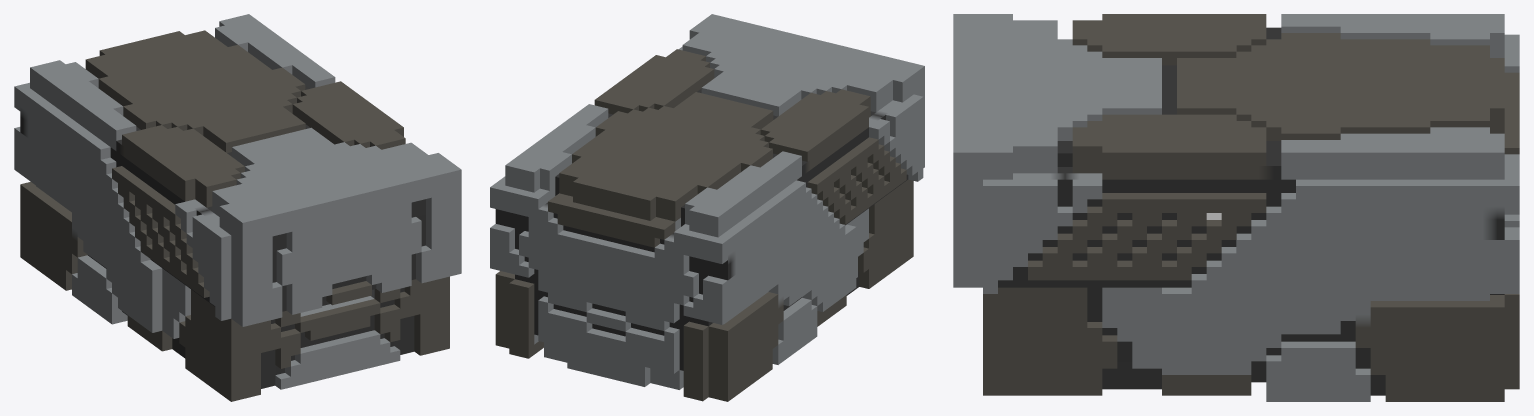
The model's file is Head3.fbx.
The picture shows the model from 3 angles, left to right: view 1: azimuth 30°, elevation 25°; view 2: azimuth 150°, elevation 25°; view 3: azimuth 270°, elevation 25°; orthographic projection. The views are drawn at different scales.
Parts seen in each view (by area): view 1: Head3; view 2: Head3; view 3: Head3.
Part boxes in pixels (bbox=[...]): Head3: bbox=[14, 14, 461, 401]; Head3: bbox=[490, 14, 924, 401]; Head3: bbox=[953, 14, 1519, 401].
Bounding box in the file's own units: 120 × 90 × 190.
